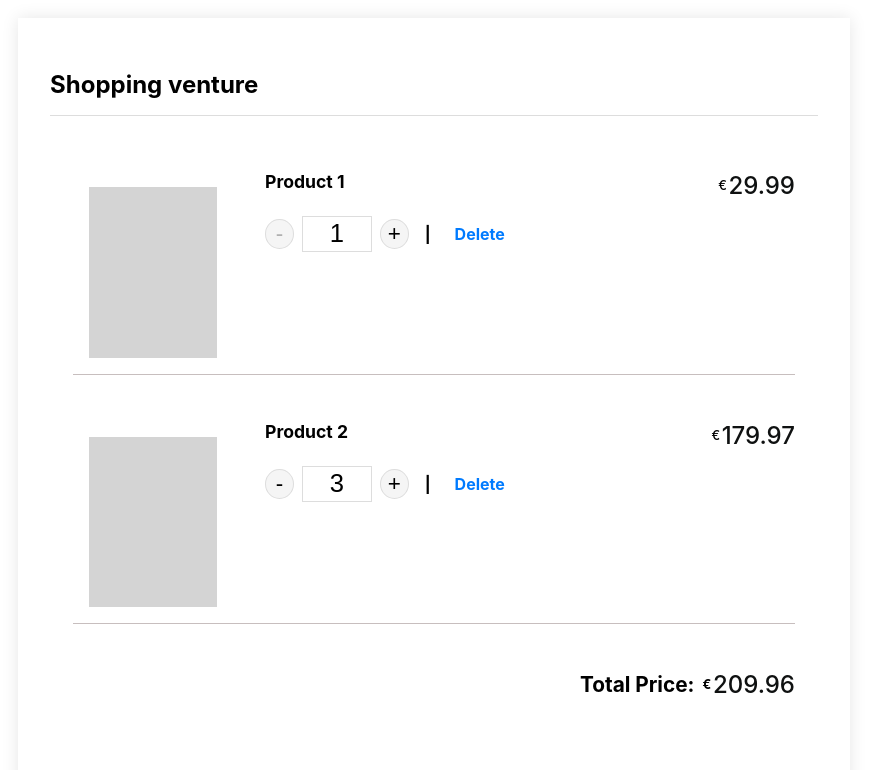
Scenario: Cart Component › removes item from the cart when delete button is clicked
Click the text "Delete" below "Product 1".
click(480, 234)  # box [455,224,505,244]
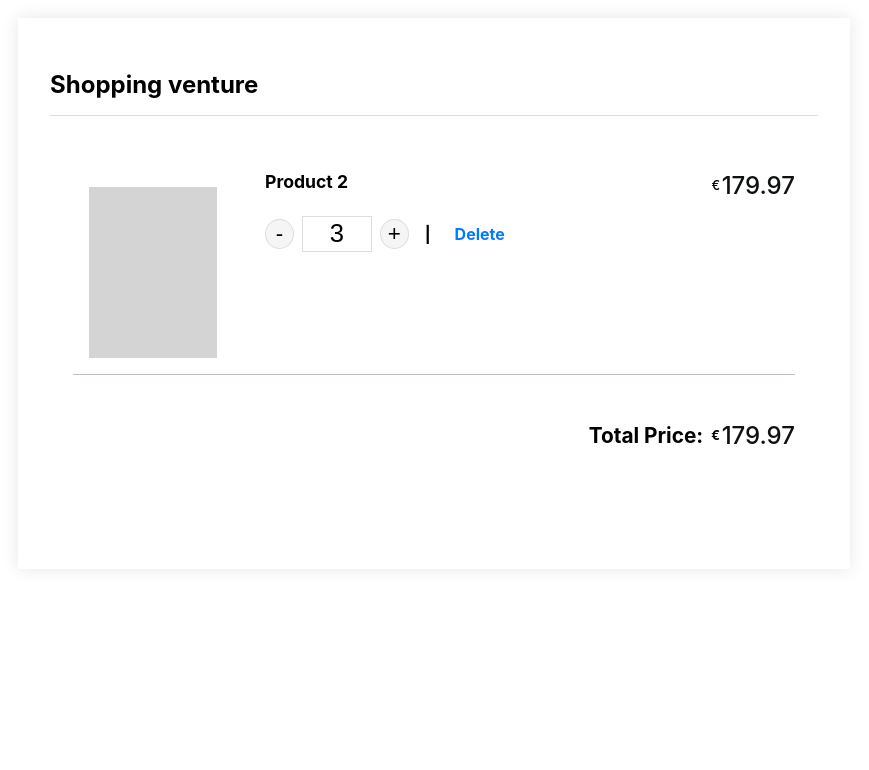
Check: the heading "Product 1" is gone
